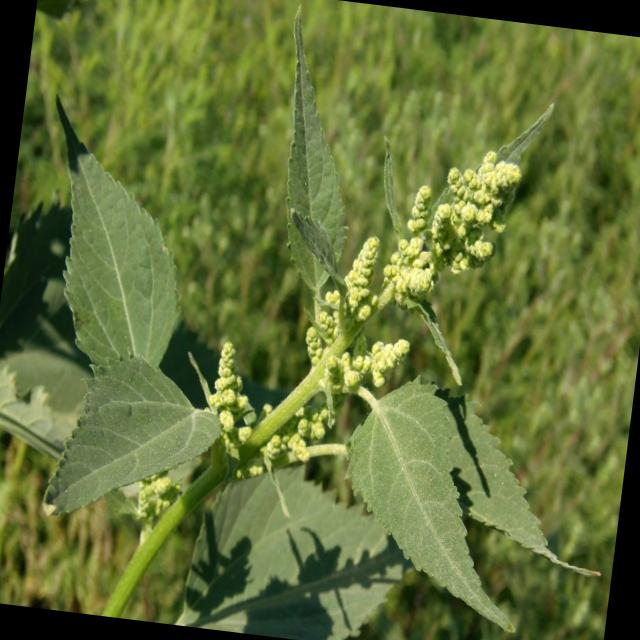ambrosia: (148, 42, 542, 548)
